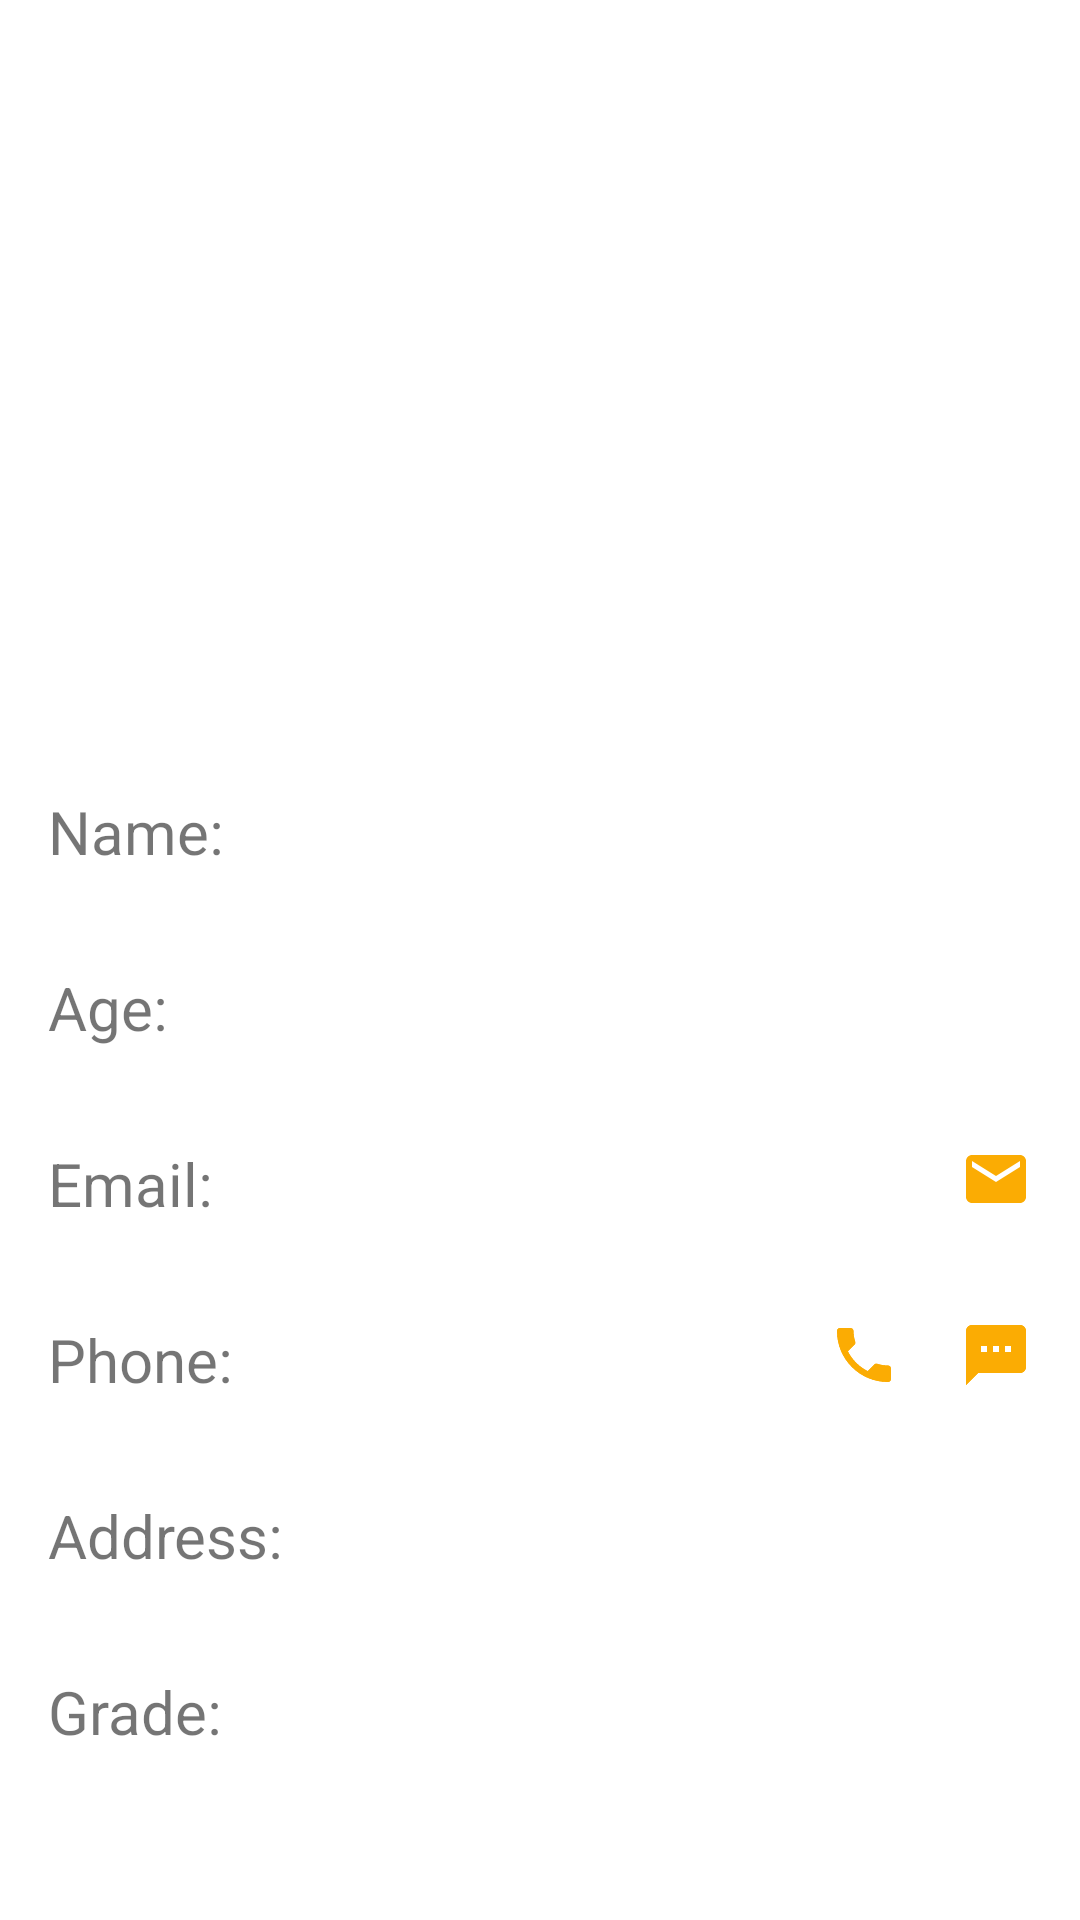

Icons on this 1080w x 1920h Android screen, each with its box as (x1, y1, x2, y2):
email: (966, 1155, 1026, 1203)
phone: (837, 1328, 891, 1382)
